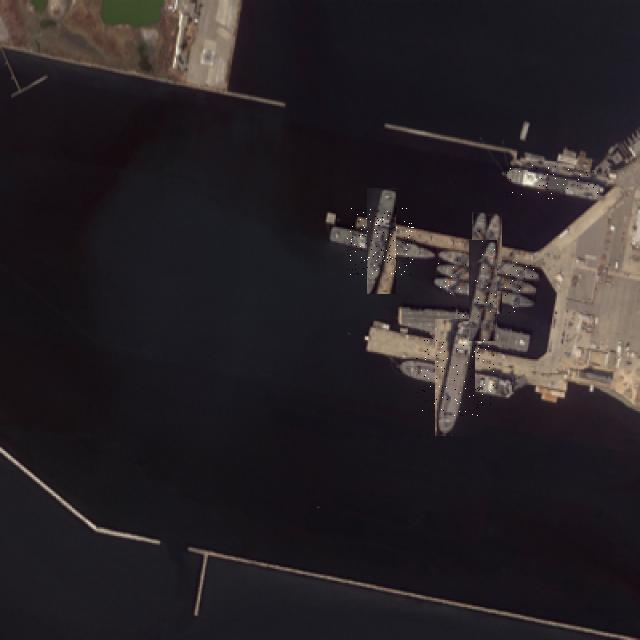boat: (416, 338, 494, 416), (347, 207, 415, 275), (454, 230, 520, 297), (450, 258, 515, 323), (501, 165, 598, 199), (436, 262, 534, 291)
